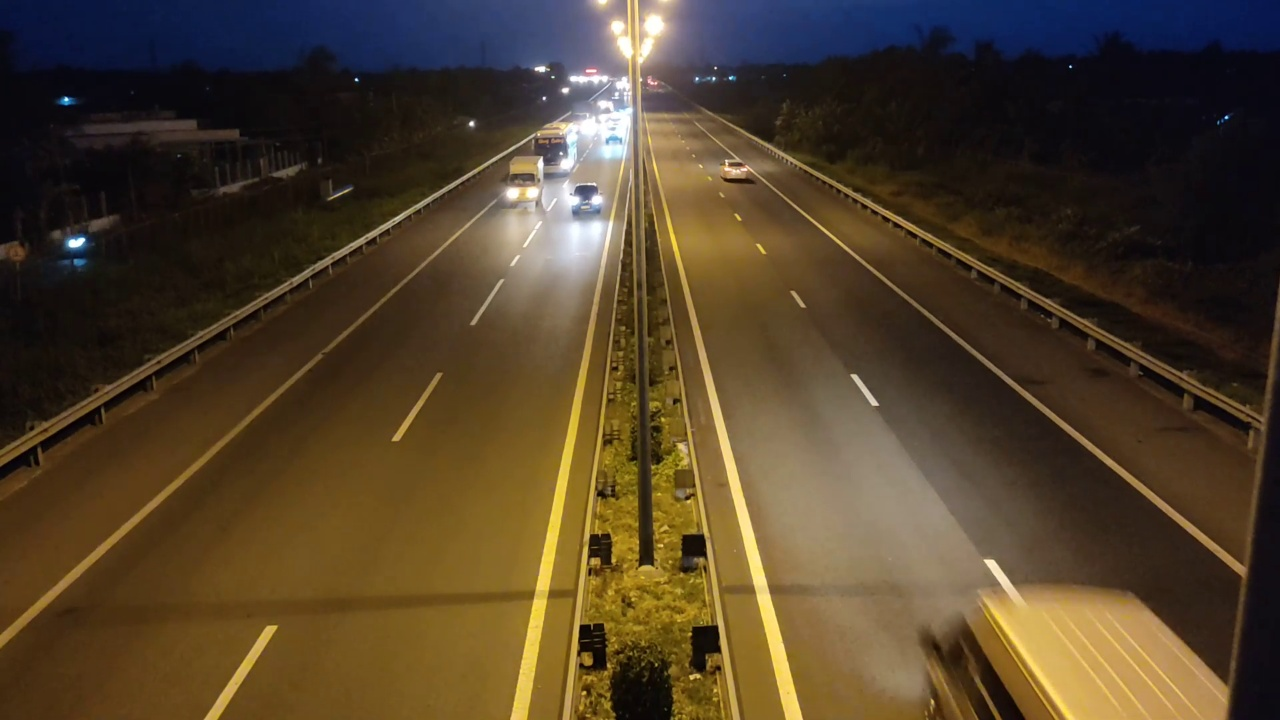car: (568, 182, 603, 217), (719, 161, 754, 181)
